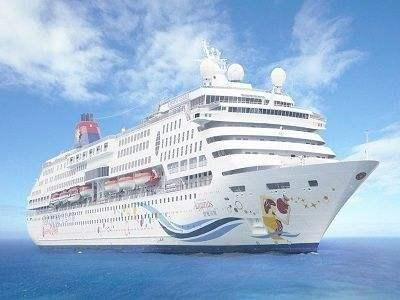youlun: (23, 55, 381, 251)
